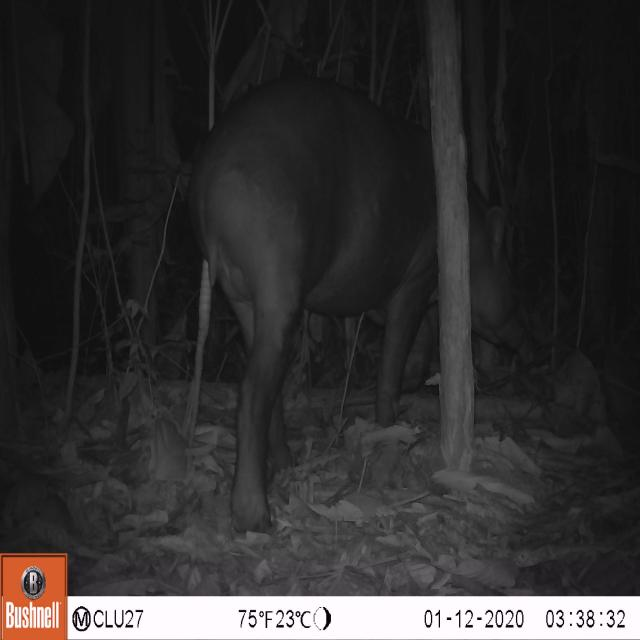Lowland Tapir: (175, 74, 542, 537)
